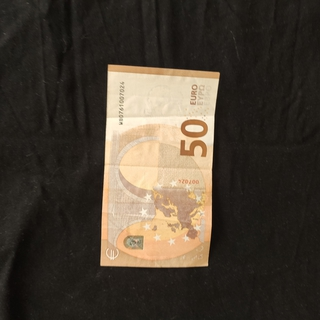50EUROBack: (99, 63, 221, 269)
